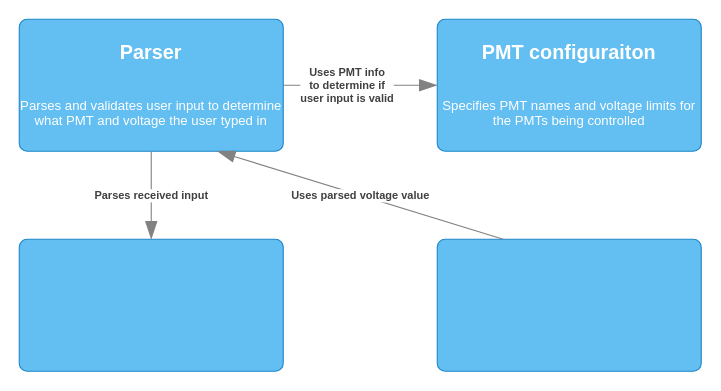
The diagram is 721 pixels wide and 391 high, and some of its shapes have lost their labels. Each missing label, with the centre of its shape:
DAC Initializes the DAC and sets the DAC voltage: point 568,304
UART Receives user input: point 150,304
